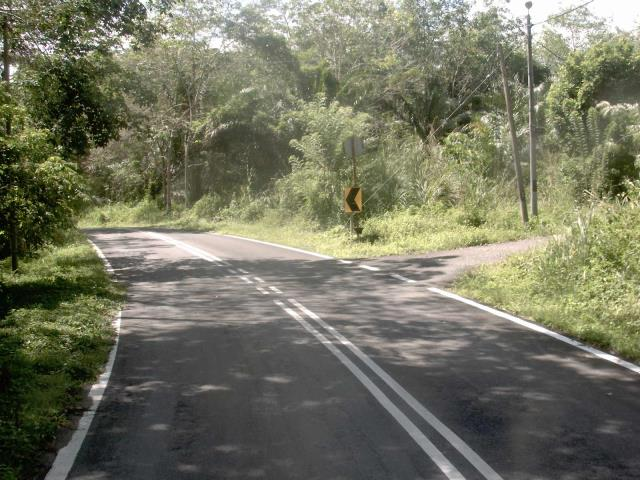traffic_sign: (335, 178, 370, 224)
